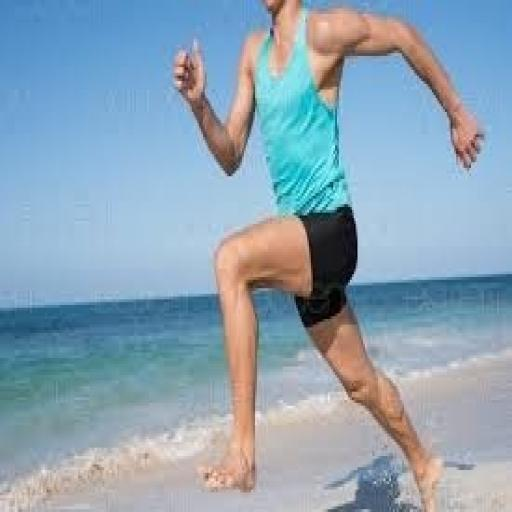running: (169, 0, 486, 509)
